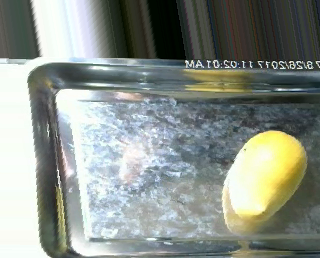Mango: (229, 131, 307, 220)
